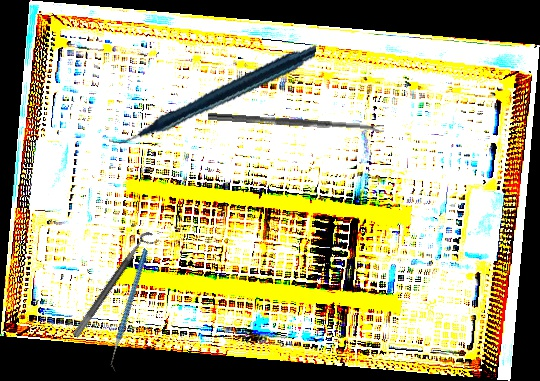Chopper: (75, 248, 186, 373)
Fixation Ring: (71, 228, 161, 345)
Handpiece: (108, 10, 317, 178)
Surgical Spoon: (207, 112, 385, 134)
